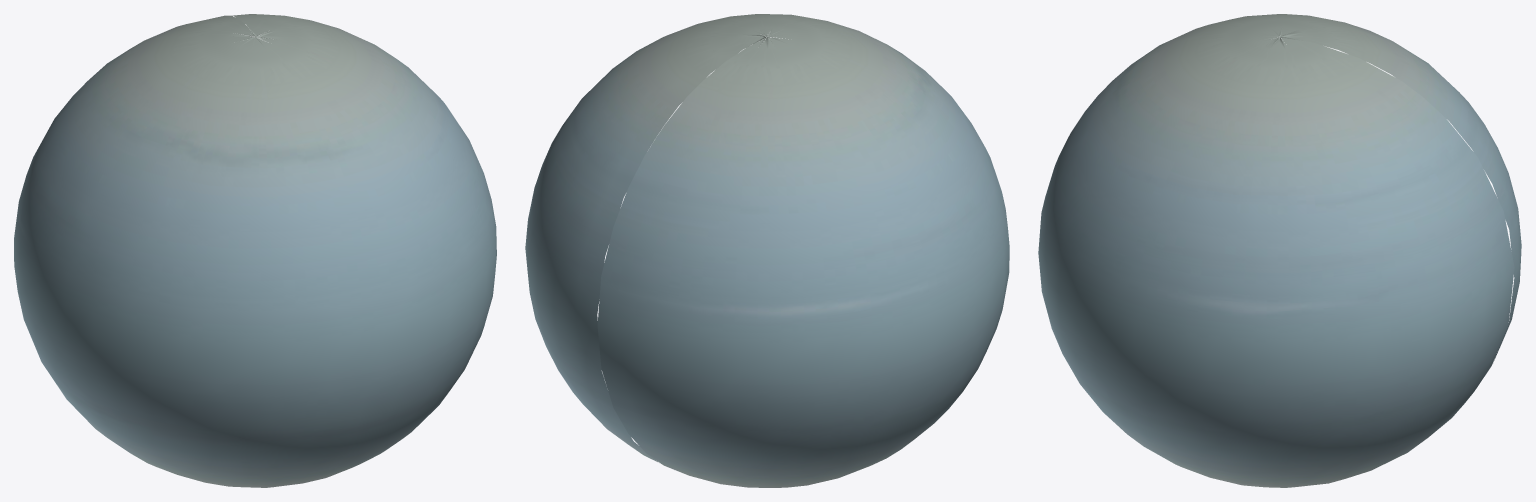
The model's file is Uranus_1_51118.glb.
3 renders of one model, left to right at view 1: azimuth 30°, elevation 25°; view 2: azimuth 150°, elevation 25°; view 3: azimuth 270°, elevation 25°, orthographic.
Visible parts, largest first — view 1: Uranus; view 2: Uranus; view 3: Uranus.
Part boxes in pixels (bbox=[...]): Uranus: bbox=[14, 14, 496, 487]; Uranus: bbox=[525, 14, 1009, 487]; Uranus: bbox=[1038, 14, 1521, 487].
Bounding box in the file's own units: 1000 × 979 × 1001.
Materials: 1 (1 with a texture image).
